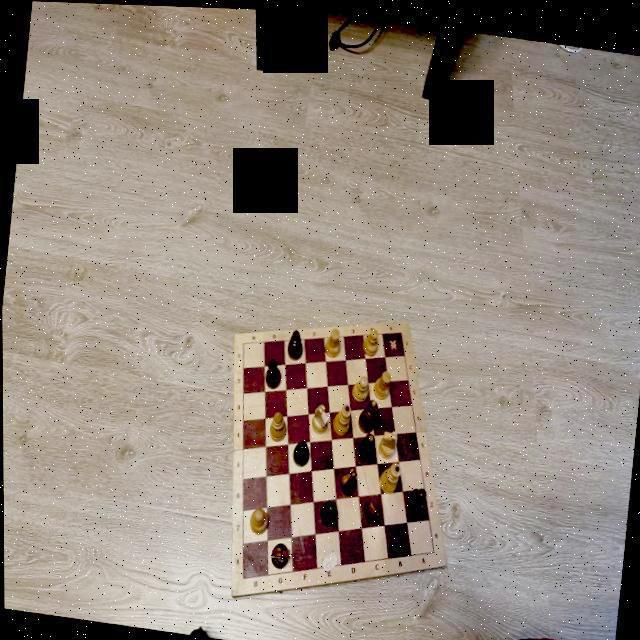chess-table-corners: (239, 572, 245, 580), (430, 545, 436, 551), (398, 326, 402, 331), (240, 340, 244, 344)
